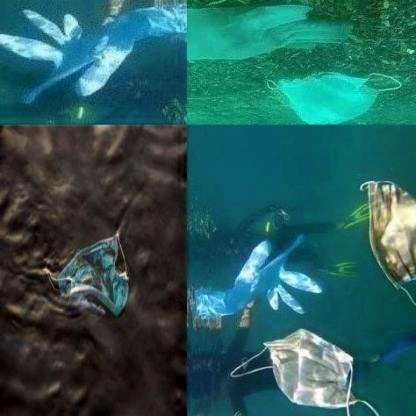Mask: (224, 327, 377, 415), (360, 167, 415, 319), (266, 71, 405, 124), (45, 231, 129, 316)
glove: (1, 0, 186, 106), (195, 228, 326, 317), (187, 5, 357, 70)
